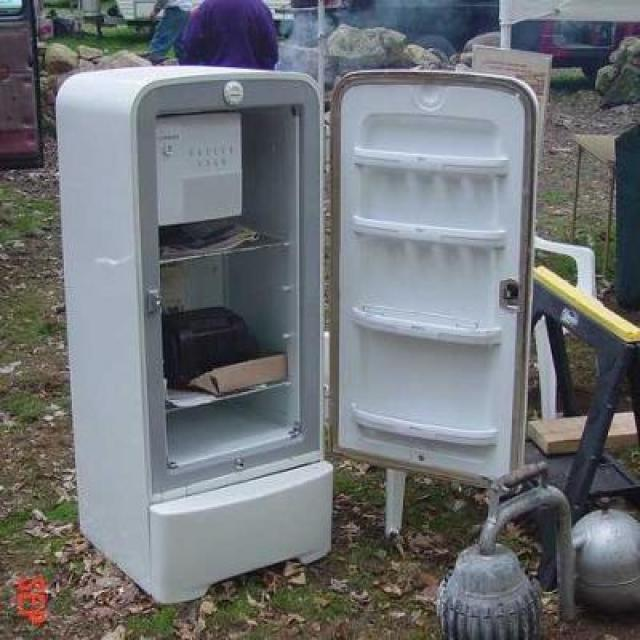refrigerator: (50, 71, 344, 572)
